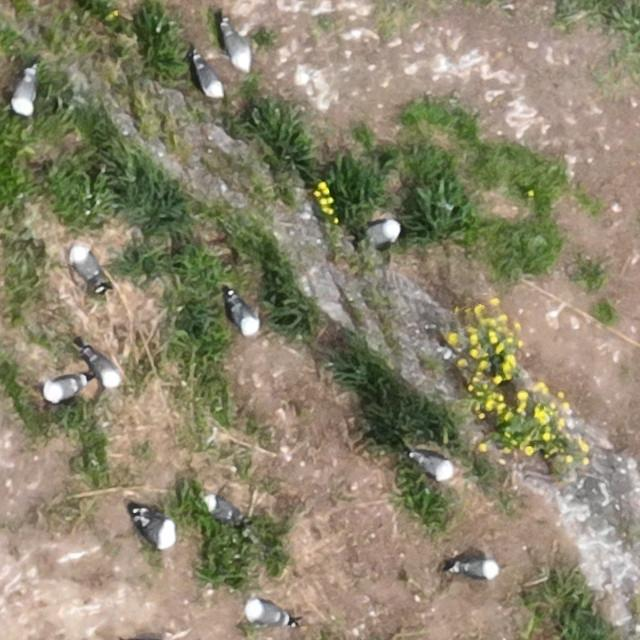umineko: (140, 515, 176, 547), (224, 29, 252, 70), (88, 351, 120, 385), (231, 298, 258, 334), (75, 250, 102, 284), (196, 61, 222, 96), (248, 603, 288, 625), (13, 74, 35, 114), (45, 376, 83, 399), (416, 456, 454, 479), (458, 561, 499, 579), (367, 220, 399, 243), (208, 498, 238, 522)
